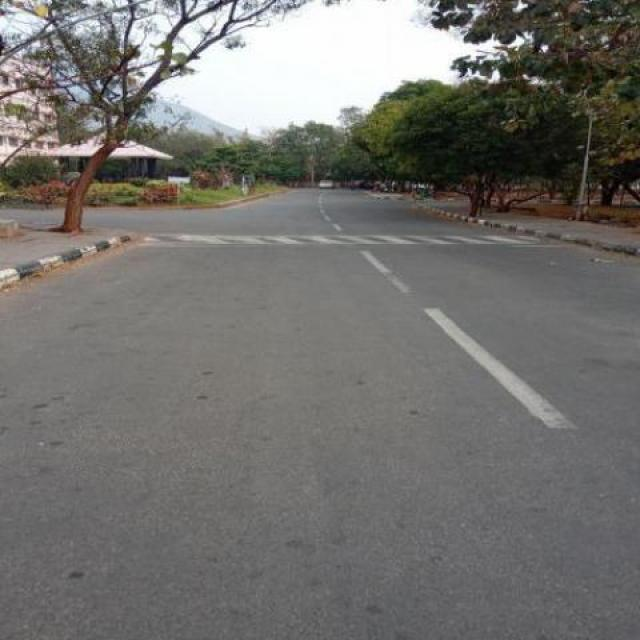Speed Bump: (125, 231, 544, 246)
